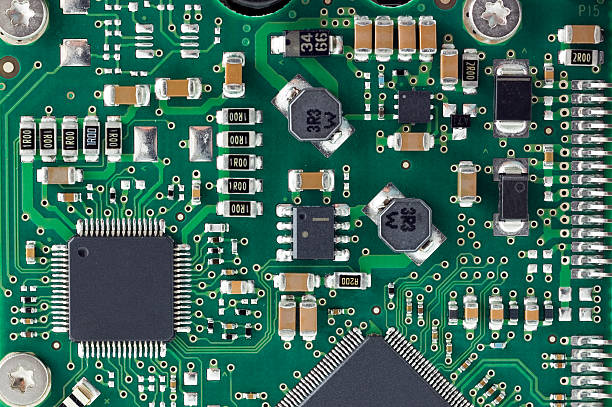Connector P: (279, 26, 337, 57), (461, 51, 480, 90), (18, 119, 37, 158), (220, 153, 258, 172), (220, 129, 257, 148), (104, 120, 123, 157), (82, 118, 100, 157), (38, 121, 57, 157), (220, 107, 256, 126), (221, 176, 257, 195), (562, 48, 598, 67), (61, 120, 79, 157), (222, 199, 257, 218), (337, 273, 366, 288), (448, 301, 459, 324), (508, 302, 519, 323), (543, 303, 554, 324), (21, 296, 36, 303), (22, 306, 35, 313)
Diode D: (443, 101, 479, 140)
Transformer T: (392, 129, 431, 152), (457, 164, 478, 204), (107, 85, 145, 106), (291, 171, 330, 191), (562, 25, 601, 44), (159, 79, 197, 98), (224, 56, 243, 93), (375, 19, 393, 57), (354, 19, 372, 57), (440, 48, 458, 86), (40, 167, 77, 185), (419, 19, 436, 58), (398, 19, 415, 57), (279, 273, 313, 291), (279, 301, 296, 336), (300, 302, 317, 337), (223, 279, 249, 294), (490, 301, 504, 326), (464, 300, 478, 325), (525, 304, 539, 327), (25, 242, 36, 263), (192, 183, 201, 204), (58, 193, 77, 202), (22, 331, 35, 337), (22, 318, 34, 324)
Transistor Q: (46, 216, 195, 360), (263, 314, 485, 407), (272, 200, 352, 263), (390, 84, 438, 125)
